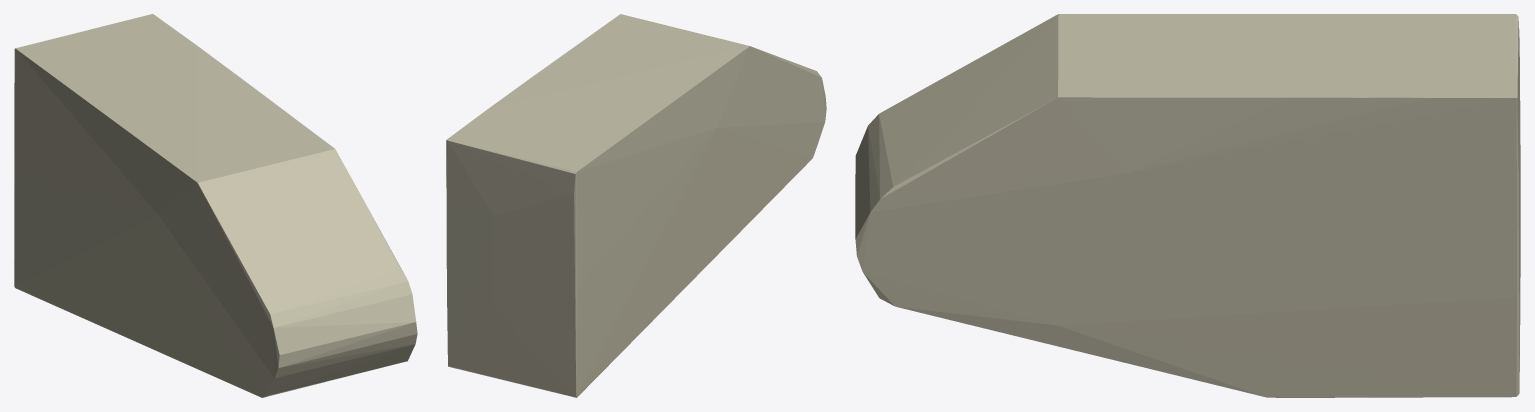
The model's file is paperbag_a02.glb.
3 renders of one model, left to right at view 1: azimuth 30°, elevation 25°; view 2: azimuth 150°, elevation 25°; view 3: azimuth 270°, elevation 25°, orthographic. The views are drawn at different scales.
Parts seen in each view (by area): view 1: geometry_0; view 2: geometry_0; view 3: geometry_0.
Boxes of the visible parts, x1,y1,x2,y2 form: geometry_0: (14, 14, 417, 397); geometry_0: (446, 14, 826, 397); geometry_0: (855, 14, 1520, 397).
Size of the model in its own units: 0.1486 by 0.2399 by 0.4799.
